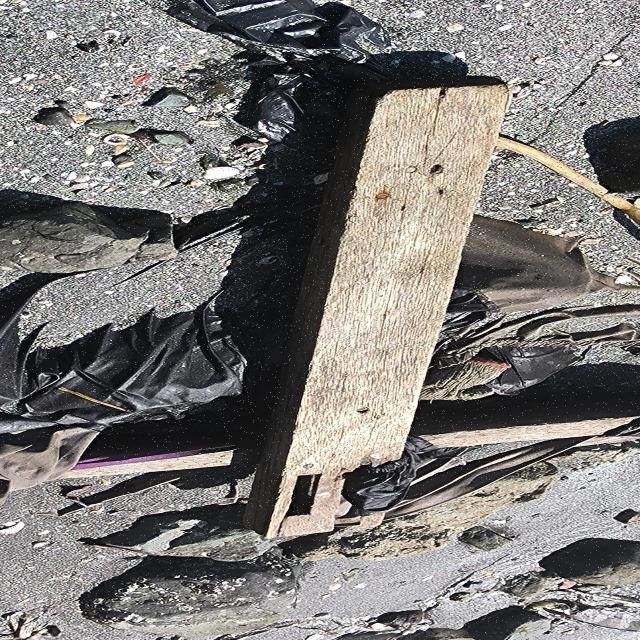wood_waste: (246, 85, 513, 541)
